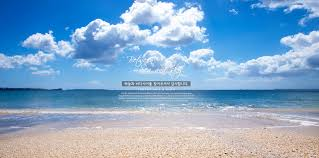beach: (1, 88, 319, 157)
sky: (1, 1, 317, 89)
